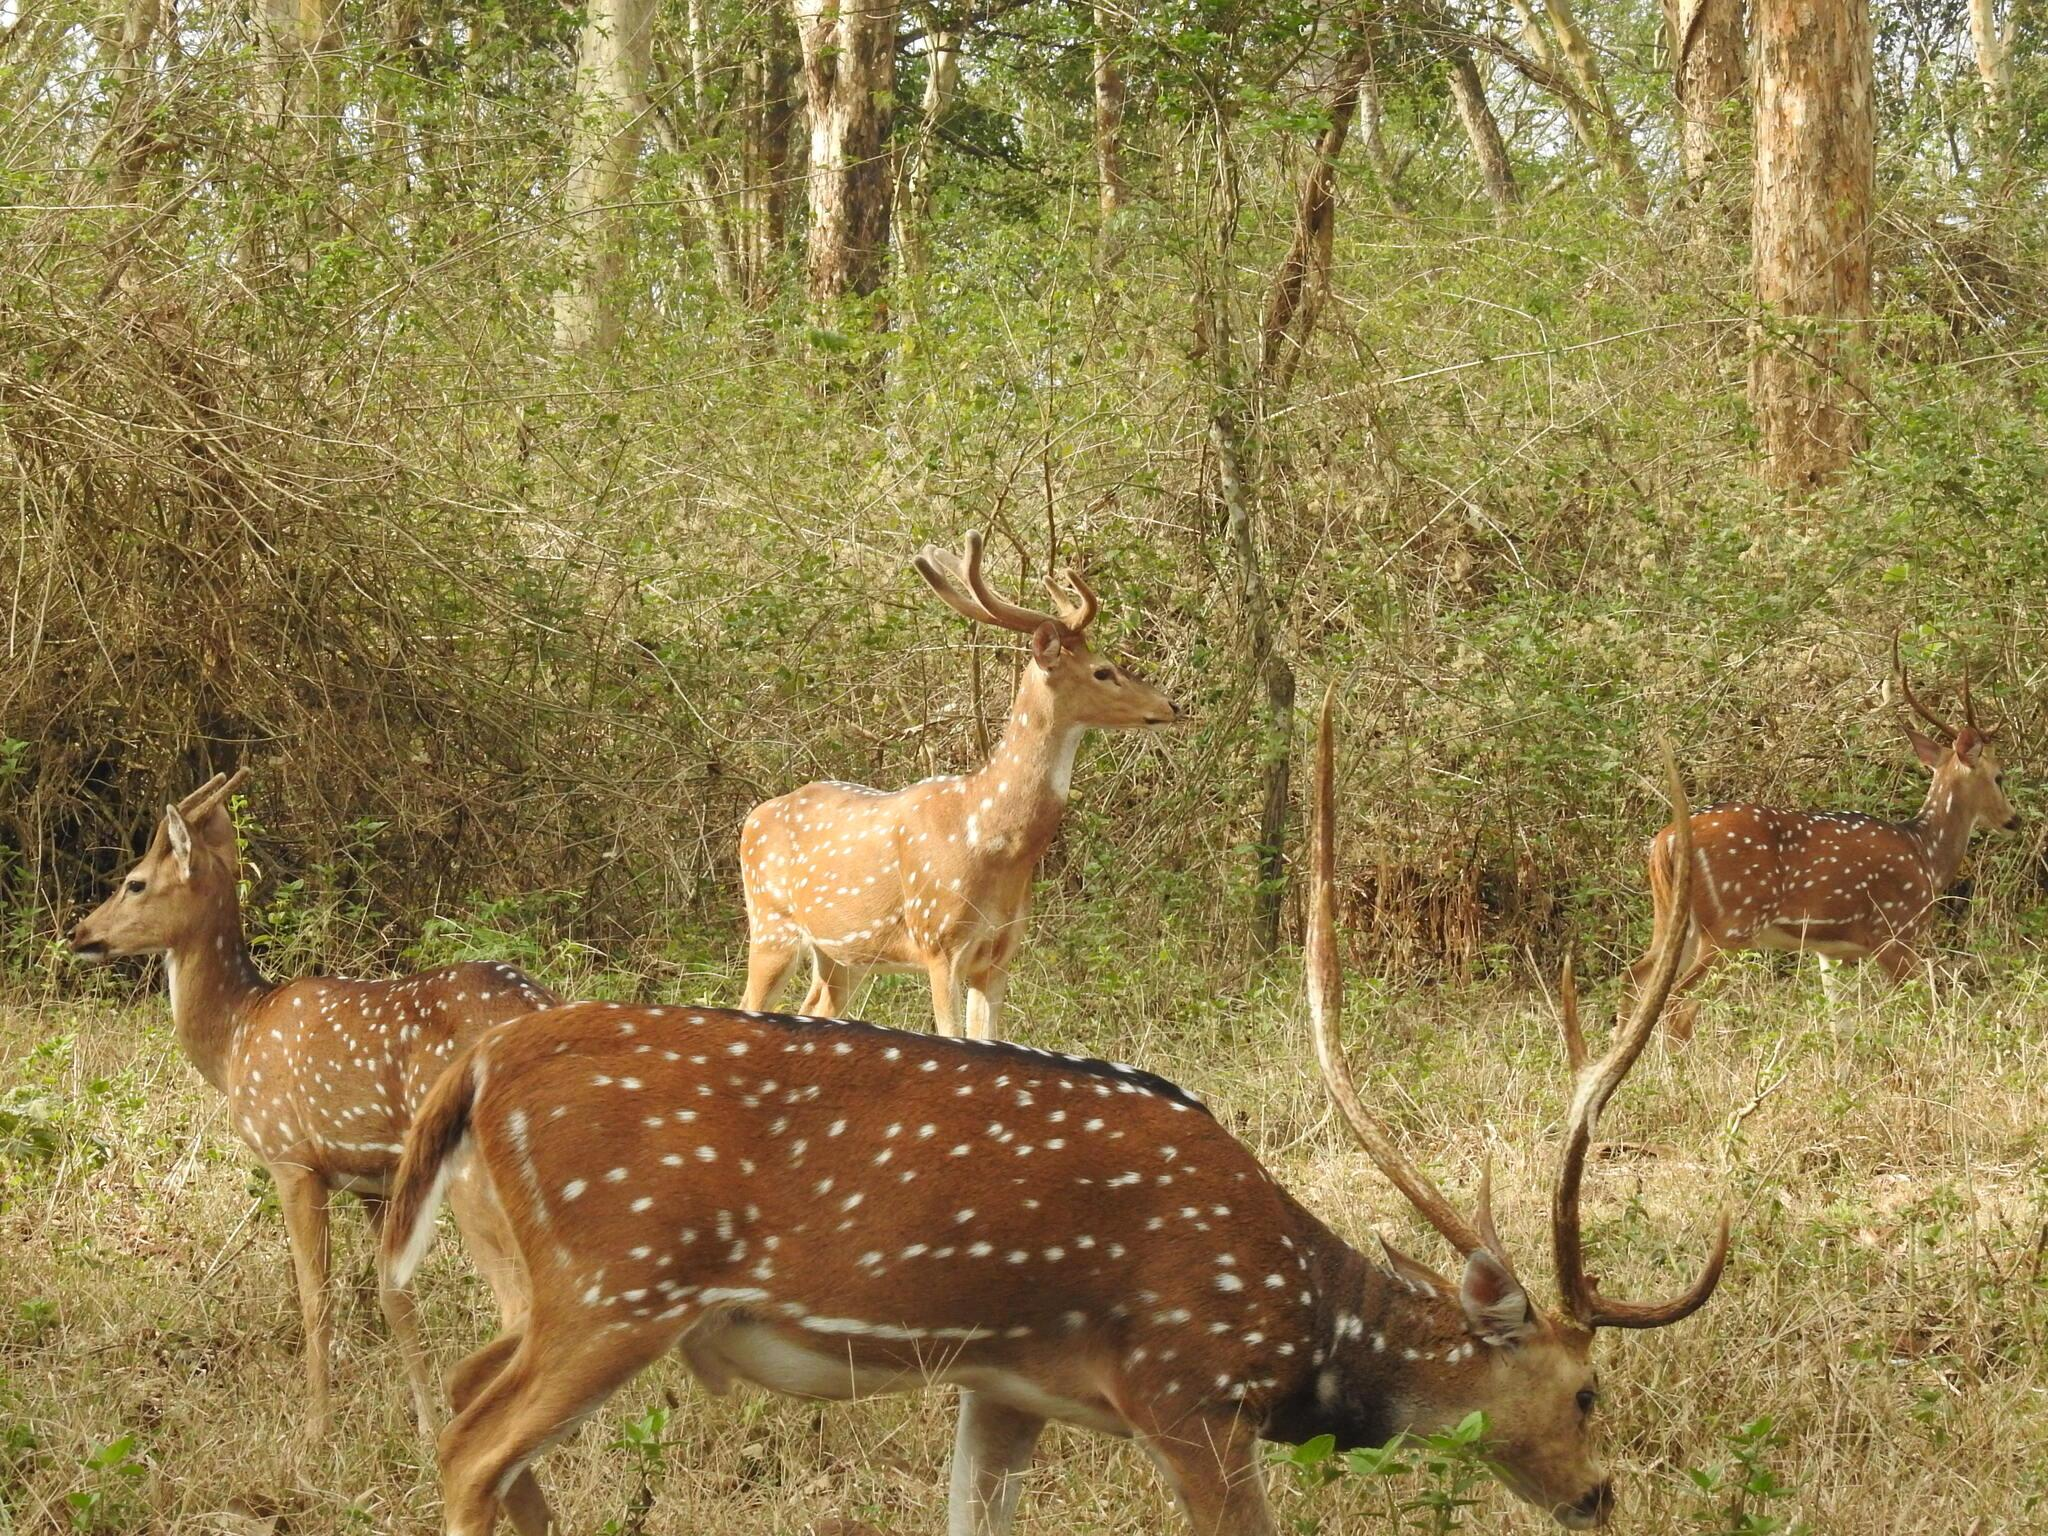Deer: (381, 716, 1729, 1534), (68, 771, 561, 1376), (739, 531, 1179, 1036), (1692, 724, 2013, 978)
